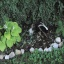skunk: (38, 23, 49, 33)
